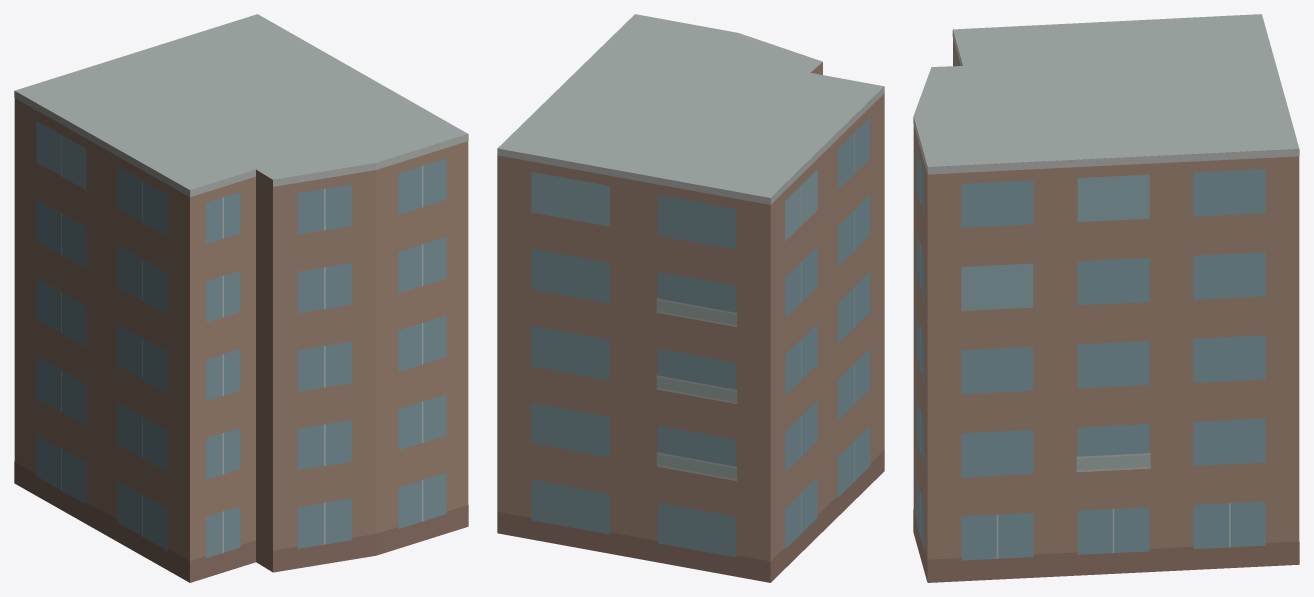
Rendered from survey-upis-32532811.glb.
The picture shows the model from 3 angles, left to right: view 1: azimuth 30°, elevation 25°; view 2: azimuth 150°, elevation 25°; view 3: azimuth 270°, elevation 25°; orthographic projection. The views are drawn at different scales.
Parts seen in each view (by area): view 1: survey-upis-32532811.tmp; view 2: survey-upis-32532811.tmp; view 3: survey-upis-32532811.tmp.
Boxes of the visible parts, left/top/right/bottom form: survey-upis-32532811.tmp: left=14, top=14, right=468, bottom=582; survey-upis-32532811.tmp: left=497, top=14, right=884, bottom=582; survey-upis-32532811.tmp: left=913, top=14, right=1299, bottom=582.
Size of the model in its own units: 10.74 by 13.6 by 11.45.
